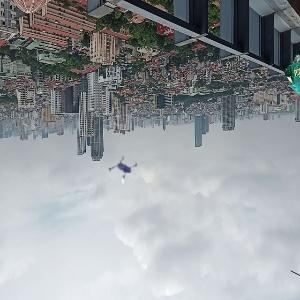drone: (100, 152, 147, 199)
